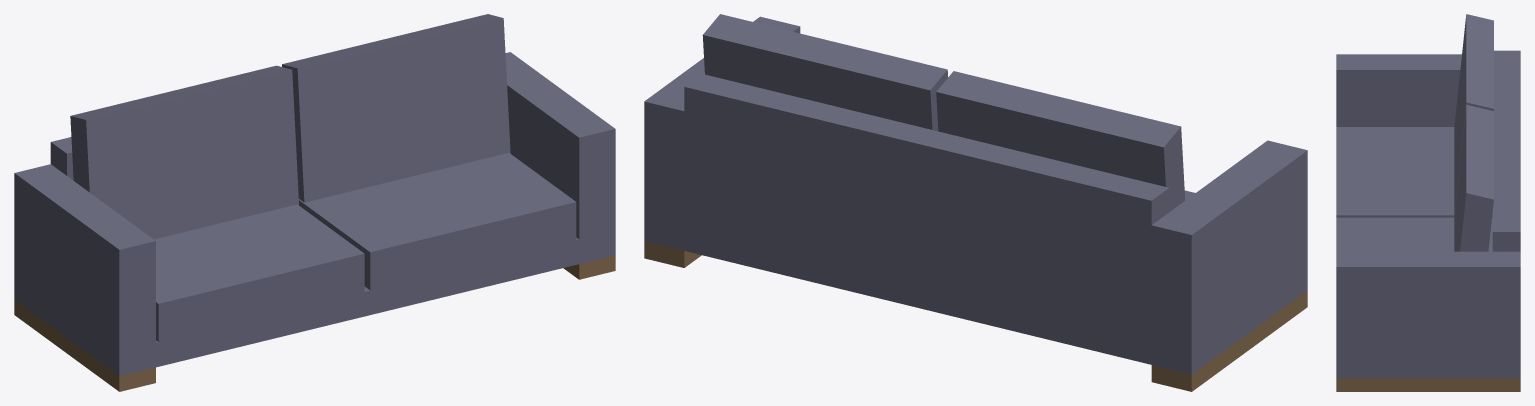
Rendered from Couch.fbx.
3 views of the same model, side by side, from view 1: azimuth 30°, elevation 25°; view 2: azimuth 150°, elevation 25°; view 3: azimuth 270°, elevation 25° (orthographic). The views are drawn at different scales.
Visible parts, largest first — view 1: Couch; view 2: Couch; view 3: Couch.
Boxes of the visible parts, x1,y1,x2,y2 form: Couch: (14,14,615,391); Couch: (644,14,1307,391); Couch: (1336,14,1520,391).
Bounding box in the file's own units: 3.75 × 1.5 × 1.38.
